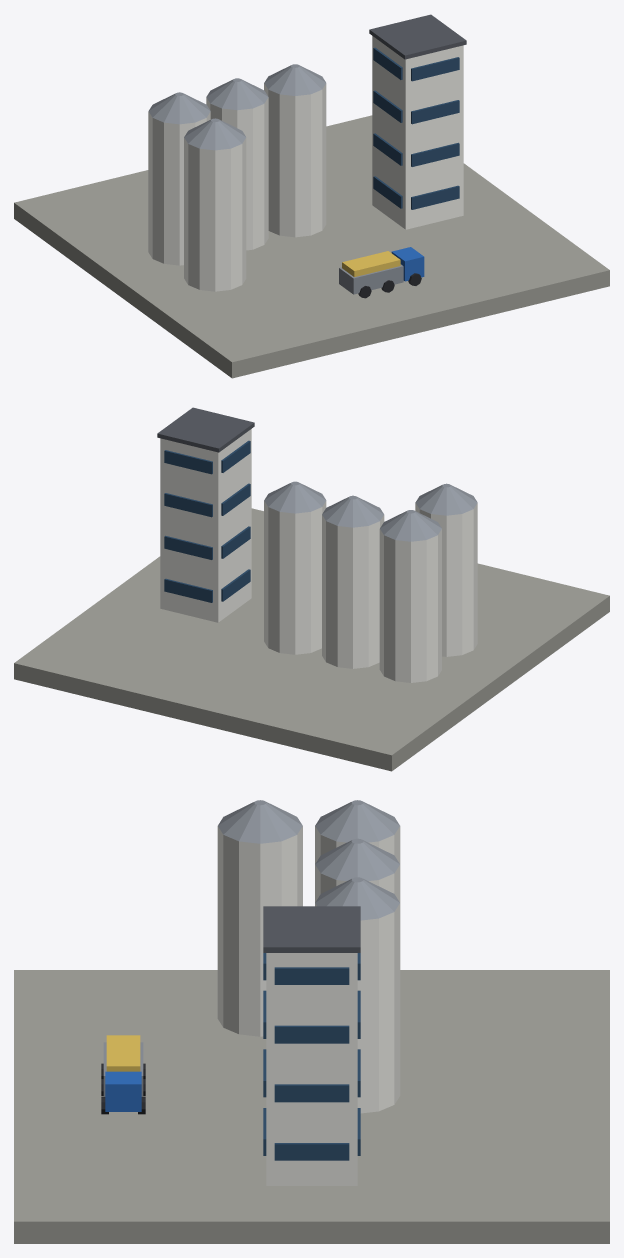
The model's file is agro_income_2.glb.
3 views of the same model, one above another, from view 1: azimuth 30°, elevation 25°; view 2: azimuth 150°, elevation 25°; view 3: azimuth 270°, elevation 25° (orthographic). The views are drawn at different scales.
Visible parts, largest first — view 1: agro_income_2; view 2: agro_income_2; view 3: agro_income_2.
Boxes of the visible parts, bbox=[...] form: agro_income_2: bbox=[14, 14, 609, 378]; agro_income_2: bbox=[14, 407, 609, 771]; agro_income_2: bbox=[14, 800, 609, 1243].
Size of the model in its own units: 1.96 by 0.95 by 1.96.
